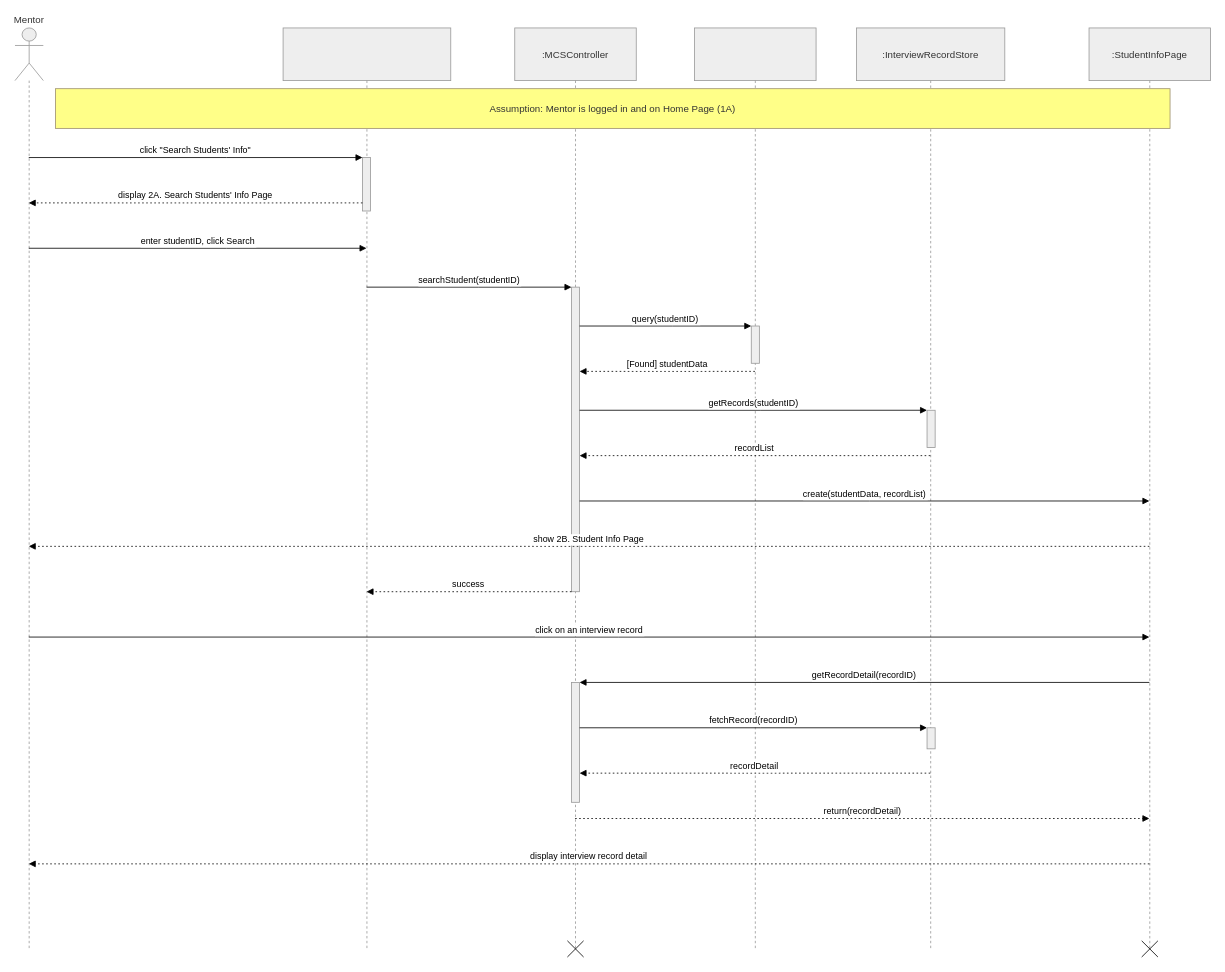
Image size: 1225x972. Some labels were removed from this diagram. The box of each missing label's shape, as (x1, y1, x2, y2) in pixels:
:SearchStudentsInfoPage: (282, 27, 451, 949)
:StudentInfoDB: (694, 27, 816, 949)
